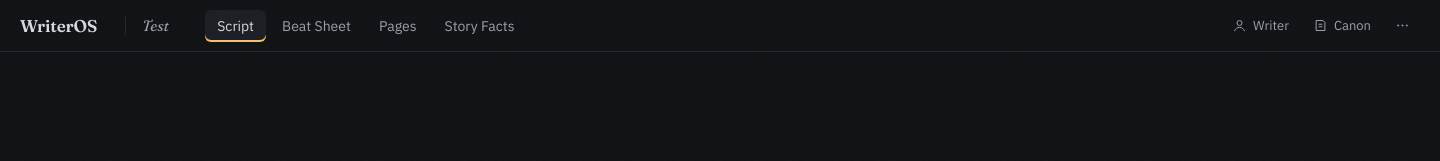
F19 waits for a successful save and shows a failed save in the top bar
Click the button named "project actions" at (1402, 26), box [1385,12,1420,39]
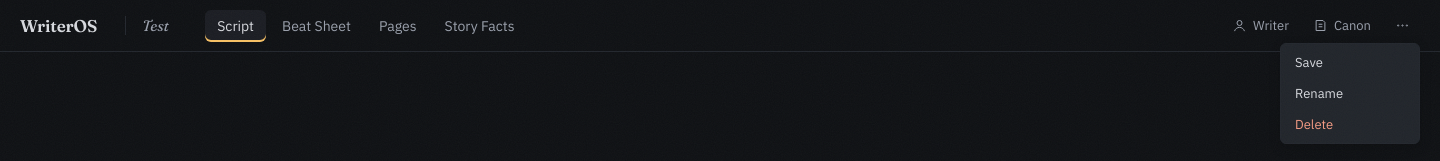
Click the menu item "Save" at (1350, 62), box [1285,48,1415,77]
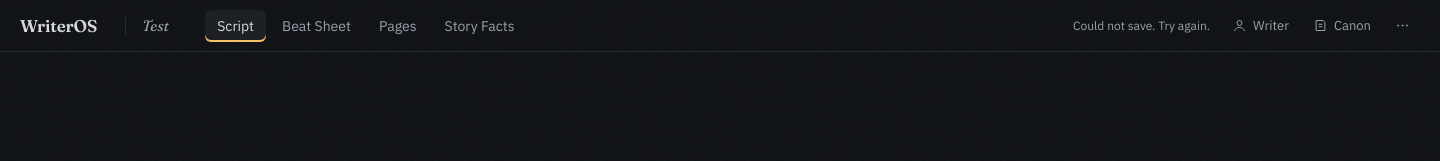
Expected: the text "Saved " is not shown
Now the message reads "Could not save. Try again.", box [1073,18,1210,33]
Click the button named "project actions" at (1402, 26), box [1385,12,1420,39]
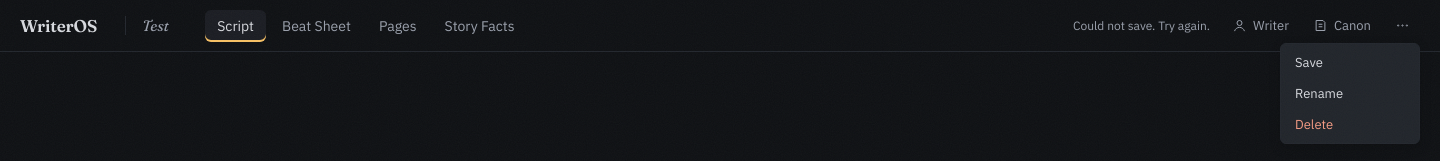
Click the menu item "Save" at (1350, 62), box [1285,48,1415,77]
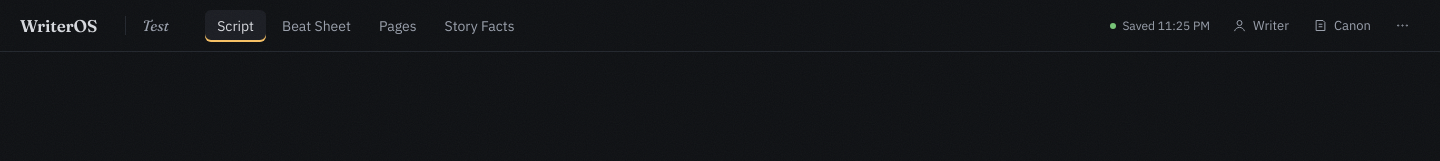
Now the text "Saved 11:25 PM" is shown, box [1122,18,1210,33]
